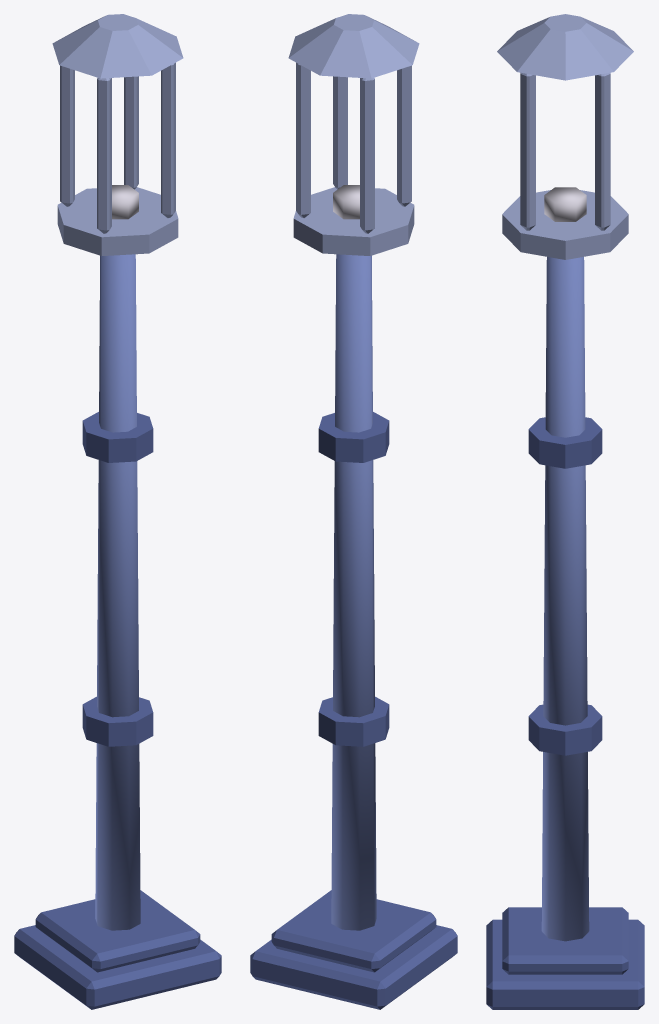
File: blue_dungeon_lamp_v0.glb
3 renders of one model, left to right at view 1: azimuth 30°, elevation 25°; view 2: azimuth 150°, elevation 25°; view 3: azimuth 270°, elevation 25°, orthographic.
Visible parts, largest first — view 1: blue_dungeon_lamp_v0; view 2: blue_dungeon_lamp_v0; view 3: blue_dungeon_lamp_v0.
Boxes of the visible parts, x1,y1,x2,y2 form: blue_dungeon_lamp_v0: [14, 14, 221, 1009]; blue_dungeon_lamp_v0: [250, 14, 457, 1009]; blue_dungeon_lamp_v0: [486, 14, 644, 1009].
Bounding box in the file's own units: 0.3 × 2 × 0.3.
